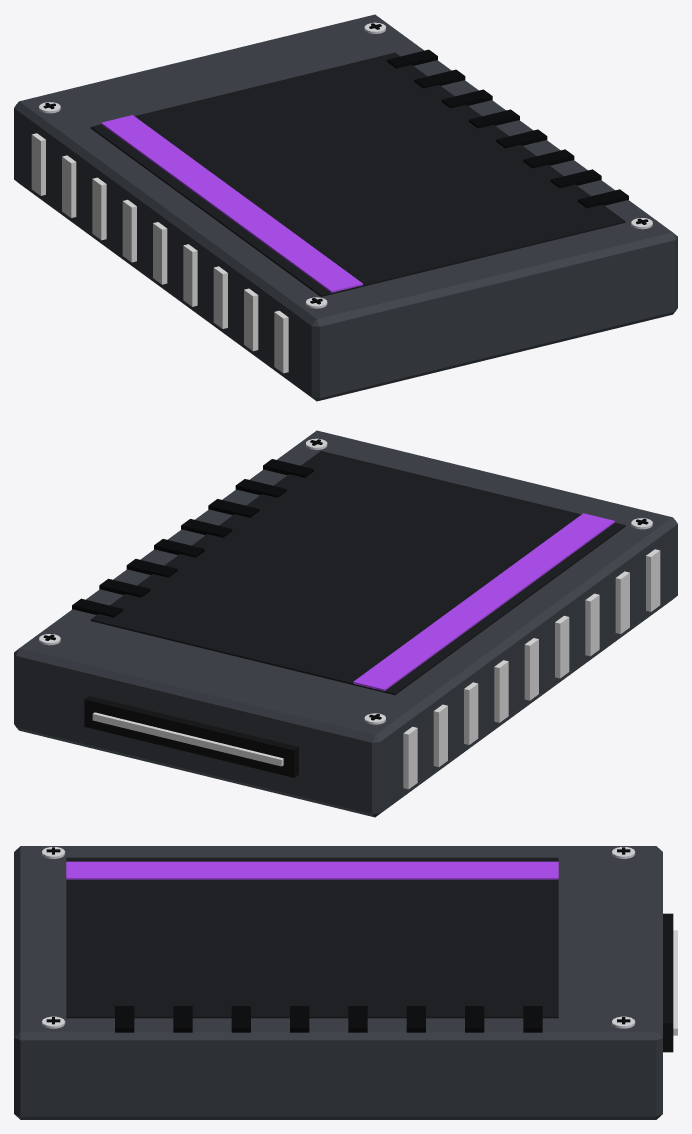
Rendered from hw_sto_nvme4_30tb.glb.
3 views of the same model, one above another, from view 1: azimuth 30°, elevation 25°; view 2: azimuth 150°, elevation 25°; view 3: azimuth 270°, elevation 25° (orthographic). The views are drawn at different scales.
Parts seen in each view (by area): view 1: Body; view 2: Body; view 3: Body.
Part boxes in pixels (box(x1,y1,x2,y2)): Body: box(14, 14, 677, 401); Body: box(14, 430, 677, 817); Body: box(14, 846, 677, 1119).
Size of the model in its own units: 0.0708 by 0.0157 by 0.1025.
